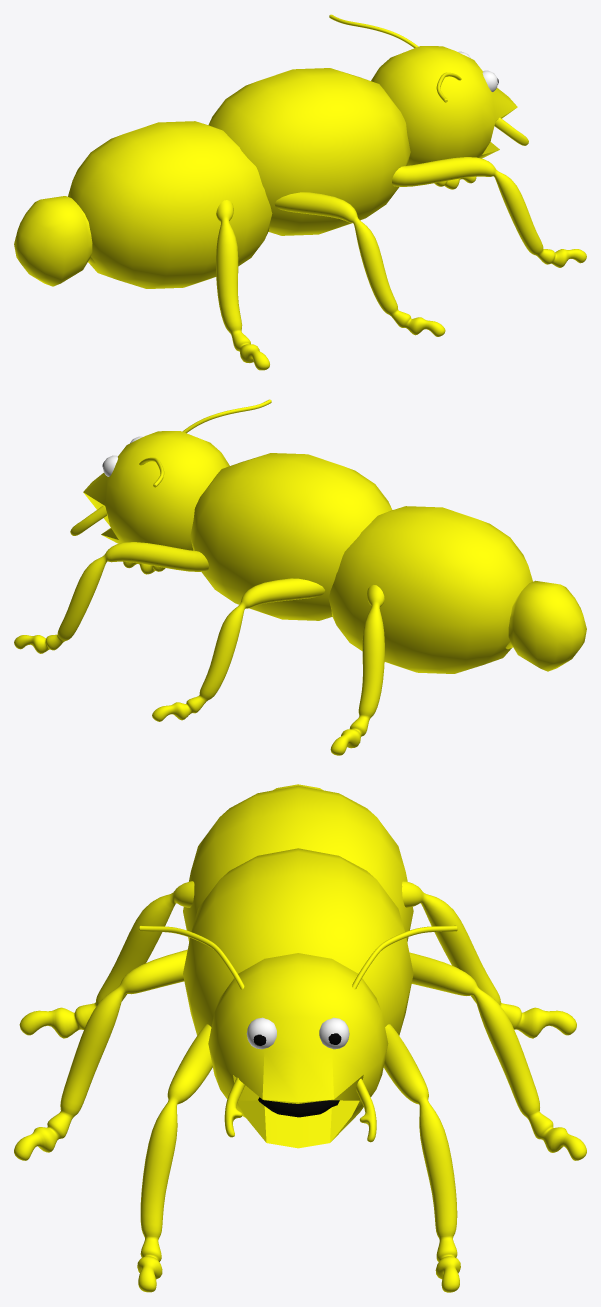
Rendered from pet-durmite.glb.
3 views of the same model, one above another, from view 1: azimuth 30°, elevation 25°; view 2: azimuth 150°, elevation 25°; view 3: azimuth 270°, elevation 25° (orthographic). The views are drawn at different scales.
Size of the model in its own units: 0.1201 by 0.0451 by 0.0844.
